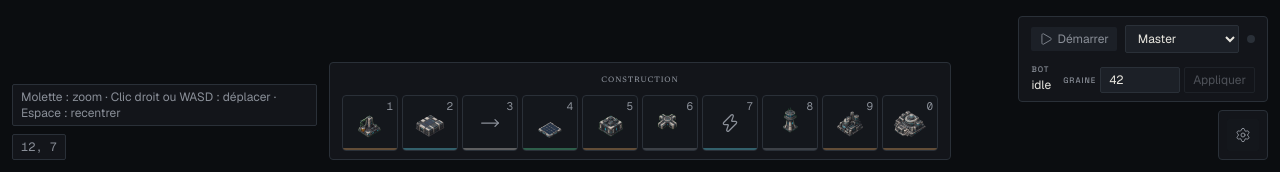
Scenario: GameHUD › activates belt placement on first click
The width and height of the screenshot is (1280, 172).
Step 1. Click the button named "Convoyeur" → [490, 123], box [462,95,518,151]
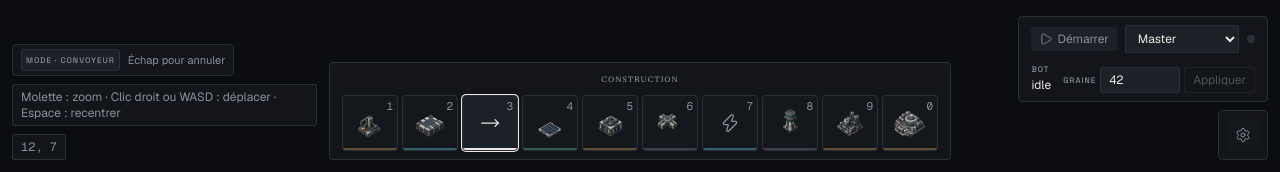
Now the button named "Convoyeur" is pressed, box [462,95,518,151]
